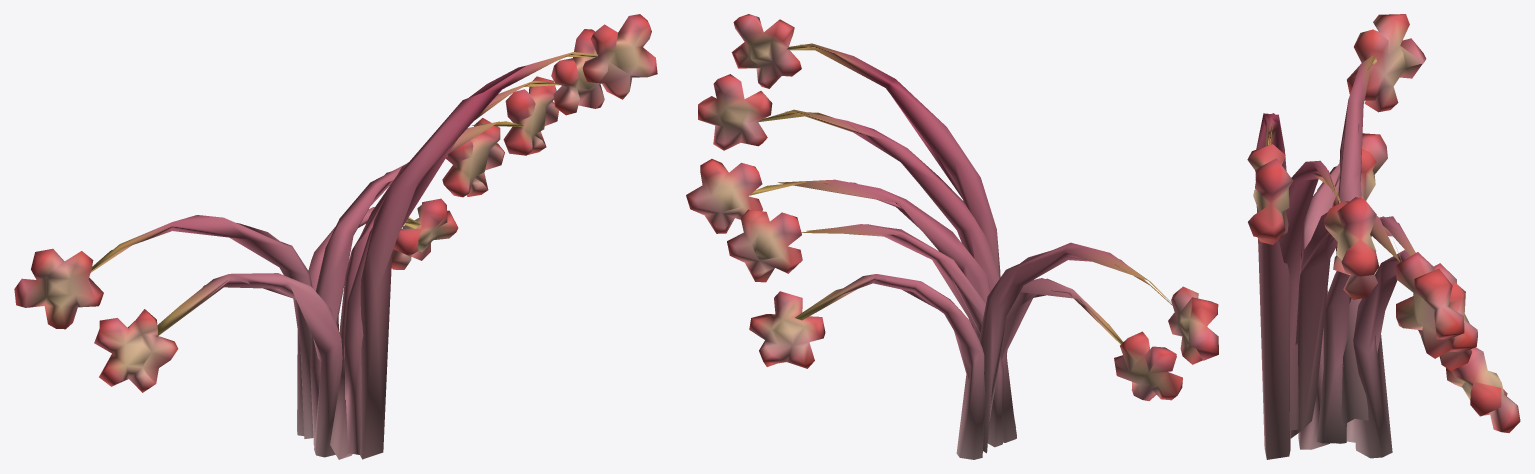
3 views of the same model, side by side, from view 1: azimuth 30°, elevation 25°; view 2: azimuth 150°, elevation 25°; view 3: azimuth 270°, elevation 25° (orthographic). The views are drawn at different scales.
Visible parts, largest first — view 1: LOD 3_4441588532611241159_8b1ec056629fd29428edb46917b1fdee; view 2: LOD 3_4441588532611241159_8b1ec056629fd29428edb46917b1fdee; view 3: LOD 3_4441588532611241159_8b1ec056629fd29428edb46917b1fdee.
Boxes of the visible parts, x1=… form: LOD 3_4441588532611241159_8b1ec056629fd29428edb46917b1fdee: x1=14, y1=14, x2=657, y2=459; LOD 3_4441588532611241159_8b1ec056629fd29428edb46917b1fdee: x1=686, y1=14, x2=1218, y2=459; LOD 3_4441588532611241159_8b1ec056629fd29428edb46917b1fdee: x1=1247, y1=14, x2=1520, y2=459.
Size of the model in its own units: 13.82 by 8.55 by 4.65.
